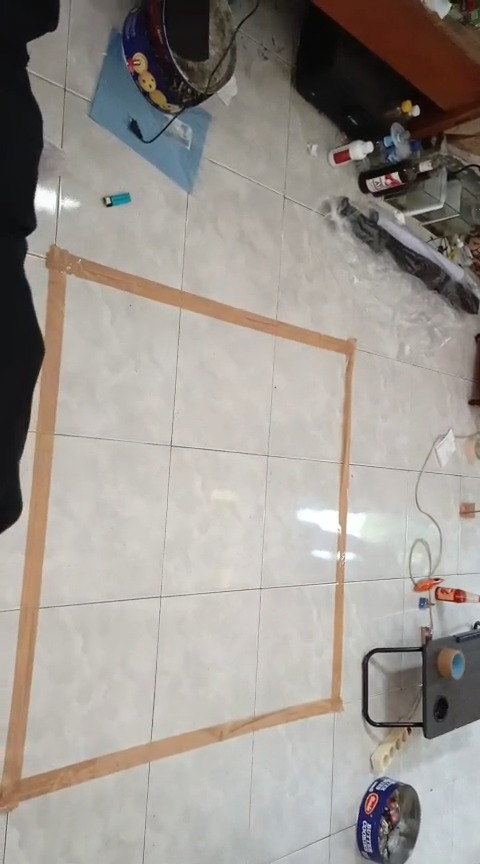floor marking: (0, 246, 354, 811)
